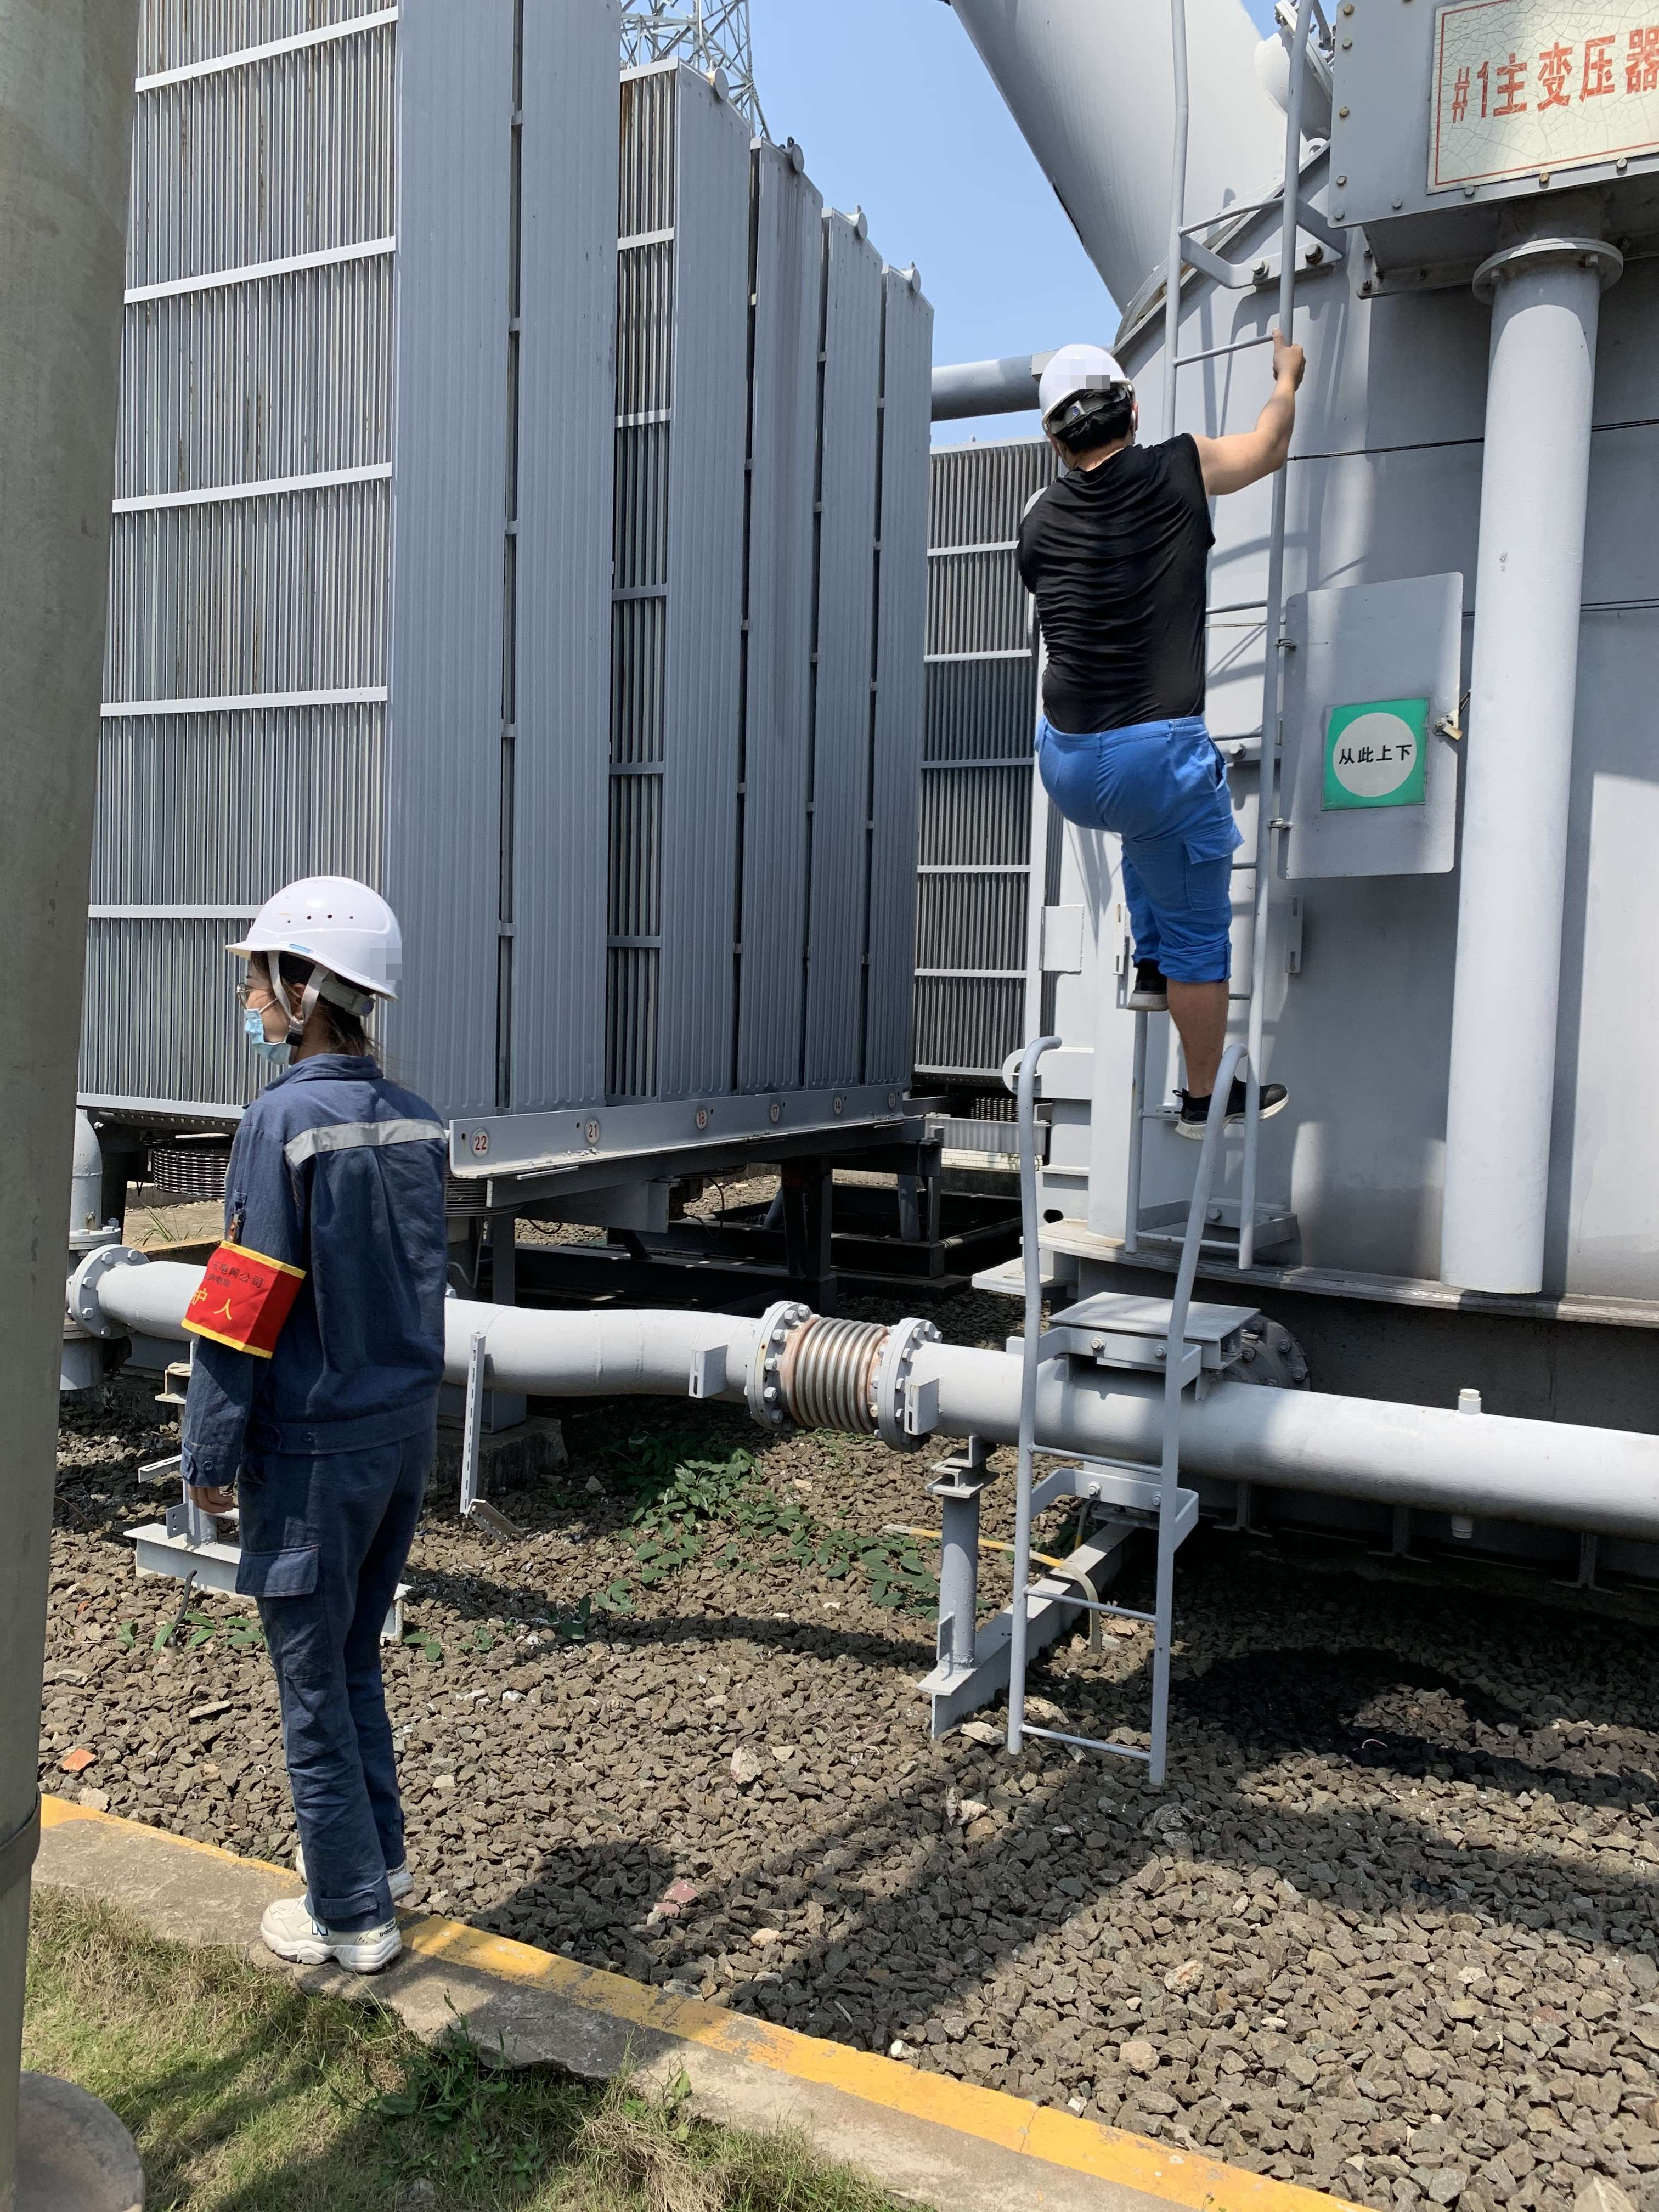downsuit: (206, 1500, 434, 1930), (1051, 728, 1253, 989)
upcloth: (1037, 477, 1218, 721)
upsuit: (207, 1087, 465, 1484)
wrongbottom: (1150, 939, 1248, 1113)
